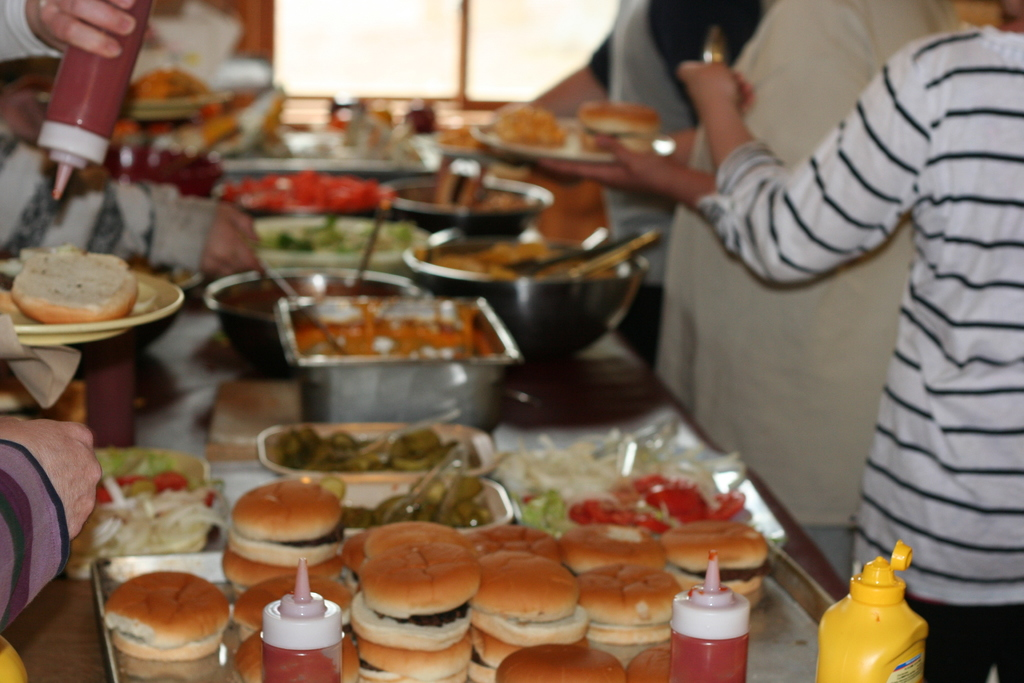Hamburger: (102, 572, 239, 672), (354, 542, 478, 643), (469, 550, 594, 640), (225, 475, 352, 561), (18, 236, 144, 322), (232, 563, 363, 636), (656, 521, 771, 599), (576, 554, 685, 631), (234, 624, 360, 682), (348, 520, 465, 576), (223, 554, 368, 597), (357, 633, 468, 682), (577, 97, 664, 156), (469, 634, 583, 679), (547, 525, 669, 566), (504, 640, 623, 682), (458, 517, 564, 555), (632, 634, 679, 682)
